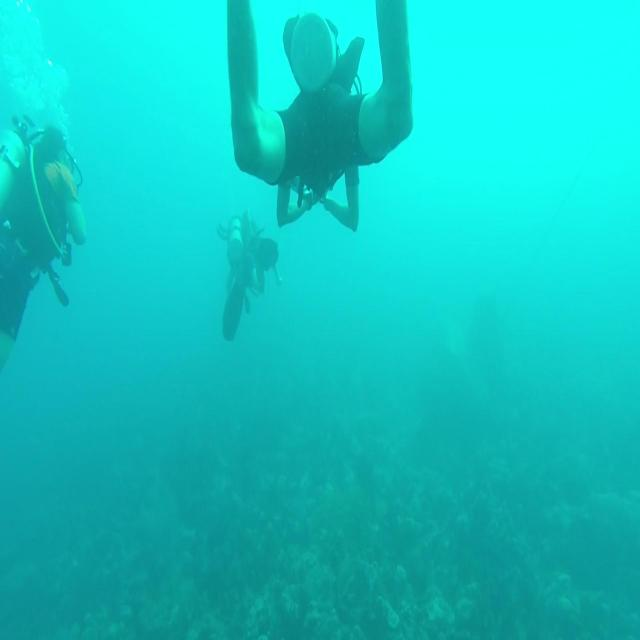human: (226, 1, 413, 232), (0, 111, 86, 373), (216, 208, 282, 342)
